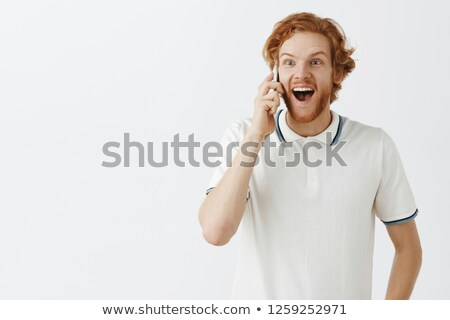phone: (263, 58, 282, 118)
talk: (252, 47, 333, 135)
